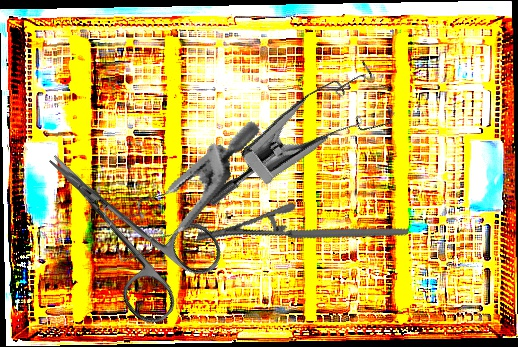Iris Scissors: (14, 114, 232, 333)
Needle Holder: (195, 166, 410, 304)
Speculum: (204, 36, 411, 262), (87, 84, 263, 292)
